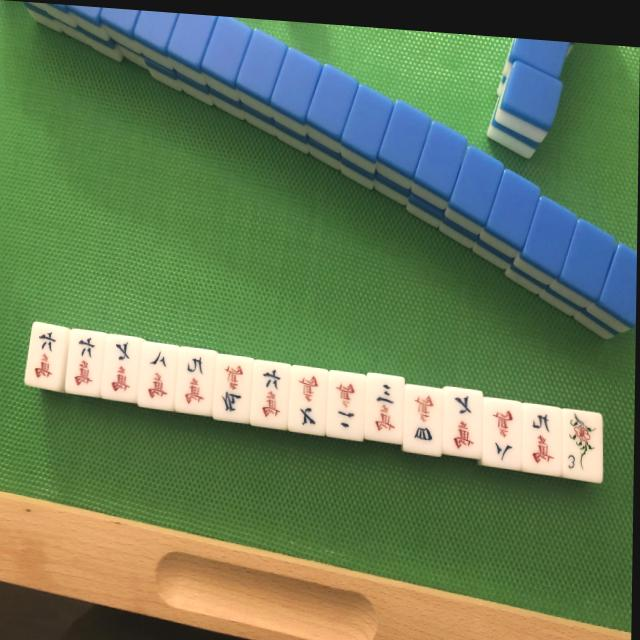f3: (565, 412, 601, 480)
m2: (332, 376, 363, 437)
m3: (369, 374, 401, 442)
m4: (406, 386, 442, 456)
m5: (218, 358, 247, 418)
m6: (256, 365, 287, 425), (71, 330, 98, 394), (34, 328, 61, 383)
m7: (443, 388, 482, 458), (294, 368, 324, 432), (108, 338, 135, 399)
m8: (483, 399, 522, 469), (143, 347, 171, 406)
m9: (523, 404, 562, 476), (181, 353, 208, 409)
